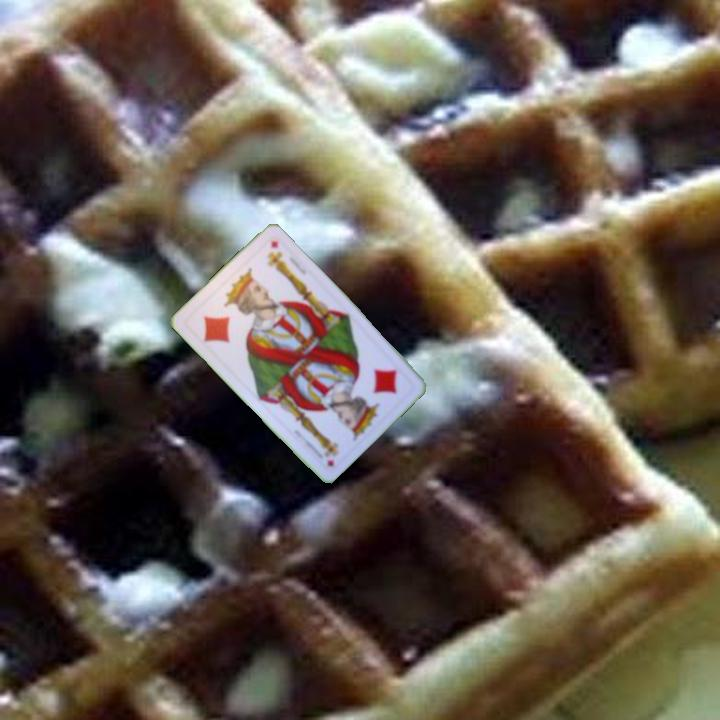d_k.png: (332, 344, 418, 430), (181, 276, 267, 362)
